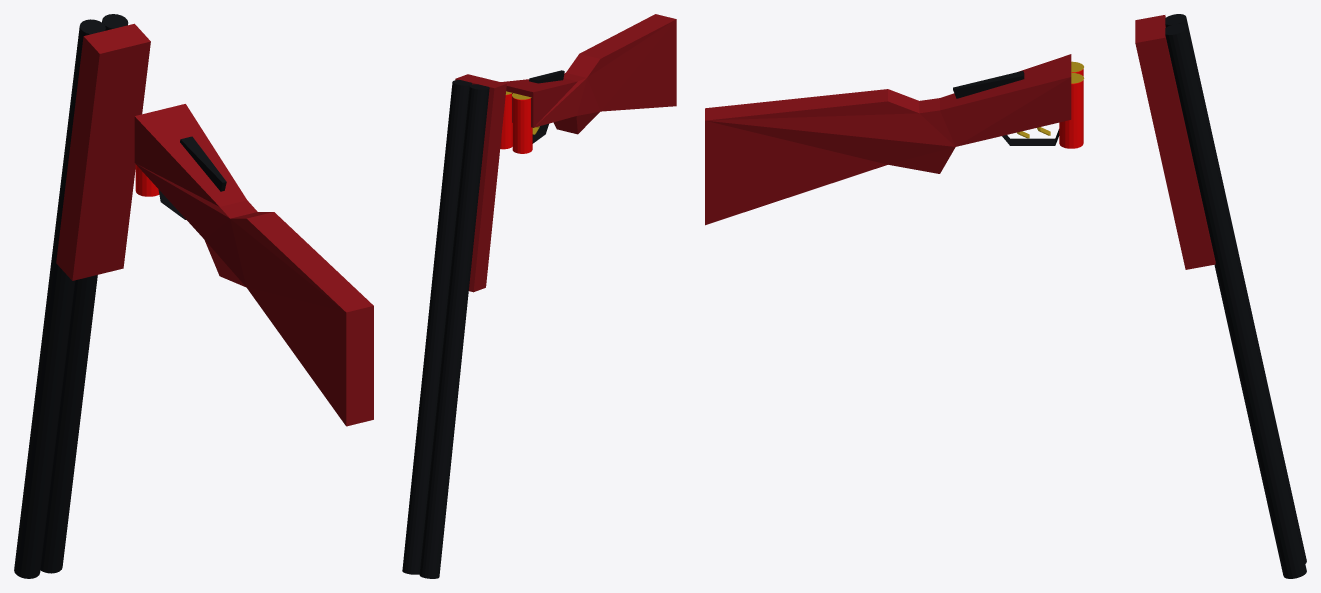
Rendered from double-barreled-shotgun0016.obj.
The picture shows the model from 3 angles, left to right: view 1: azimuth 30°, elevation 25°; view 2: azimuth 150°, elevation 25°; view 3: azimuth 270°, elevation 25°; orthographic projection. The views are drawn at different scales.
Visible parts, largest first — view 1: rearStock, foreGrip, leftBarrel, rightBarrel, topLatch, shellPlastic; view 2: rearStock, leftBarrel, rightBarrel, foreGrip, shellPlastic, shellPlastic2; view 3: rearStock, rightBarrel, foreGrip, leftBarrel, shellPlastic2, topLatch.
Boxes of the visible parts, box(x1,y1,x2,y2) form: rearStock: box(134, 104, 373, 426); foreGrip: box(56, 23, 150, 280); leftBarrel: box(14, 19, 105, 578); rightBarrel: box(40, 14, 128, 573); topLatch: box(180, 136, 226, 191); shellPlastic: box(135, 164, 159, 196); rearStock: box(501, 14, 676, 134); leftBarrel: box(419, 84, 489, 578); rightBarrel: box(402, 80, 472, 574); foreGrip: box(455, 74, 506, 292); shellPlastic: box(512, 97, 532, 153); shellPlastic2: box(500, 93, 512, 149); rearStock: box(705, 54, 1071, 225); rightBarrel: box(1165, 24, 1306, 578); foreGrip: box(1135, 15, 1215, 269); leftBarrel: box(1165, 14, 1306, 563); shellPlastic2: box(1059, 80, 1083, 148); topLatch: box(953, 71, 1024, 98).
Bounding box in the file's own units: 0.2057 × 2.29 × 2.28.
